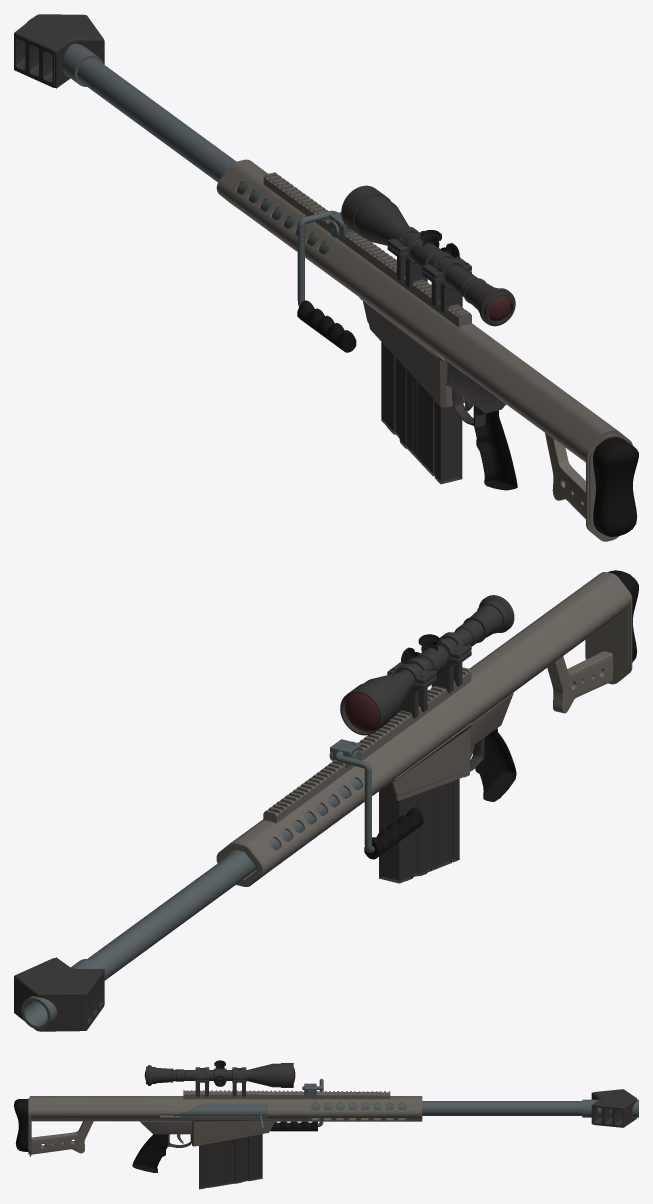
The model's file is Weapon.fbx.
3 renders of one model, top to bottom at view 1: azimuth 30°, elevation 25°; view 2: azimuth 150°, elevation 25°; view 3: azimuth 270°, elevation 25°, orthographic. The views are drawn at different scales.
Parts seen in each view (by area): view 1: body, barrel, magazine, sight, barrel thing, stock.002, rail, side plates, handle, stock, sight holder, front grip (+4 smaller); view 2: body, barrel, magazine, barrel thing, sight, rail, side plates, stock, handle, stock.001, sight holder.001, front grip (+4 smaller); view 3: body, barrel, magazine, sight, rail, side plates, barrel thing, stock, dust cover, handle, stock.002, trigger and handle base (+4 smaller).
Part boxes in pixels (x1,y1,x2,y2): body: [216, 159, 616, 462]; barrel: [26, 18, 330, 254]; magazine: [381, 342, 462, 481]; sight: [341, 185, 515, 326]; barrel thing: [14, 14, 104, 88]; stock.002: [593, 437, 638, 536]; rail: [263, 172, 471, 327]; side plates: [359, 297, 465, 407]; handle: [452, 389, 517, 490]; stock: [545, 433, 585, 518]; sight holder: [422, 252, 471, 312]; front grip: [297, 300, 356, 352]; body: [216, 573, 630, 886]; barrel: [21, 778, 362, 1029]; magazine: [379, 779, 459, 880]; barrel thing: [14, 957, 104, 1031]; sight: [340, 595, 514, 735]; rail: [263, 667, 471, 823]; side plates: [378, 723, 471, 800]; stock: [547, 651, 613, 713]; handle: [470, 728, 516, 801]; stock.001: [585, 572, 632, 684]; sight holder.001: [387, 657, 436, 718]; front grip: [364, 807, 423, 859]; body: [31, 1096, 422, 1121]; barrel: [311, 1099, 638, 1117]; magazine: [199, 1134, 262, 1187]; sight: [146, 1063, 293, 1087]; rail: [183, 1090, 390, 1099]; side plates: [192, 1119, 276, 1146]; barrel thing: [591, 1089, 637, 1127]; stock: [31, 1121, 93, 1154]; dust cover: [180, 1103, 267, 1116]; handle: [132, 1134, 191, 1172]; stock.002: [14, 1099, 28, 1151]; trigger and handle base: [140, 1121, 191, 1134].
Bounding box in the file's own units: 49.46 × 132 × 600.
